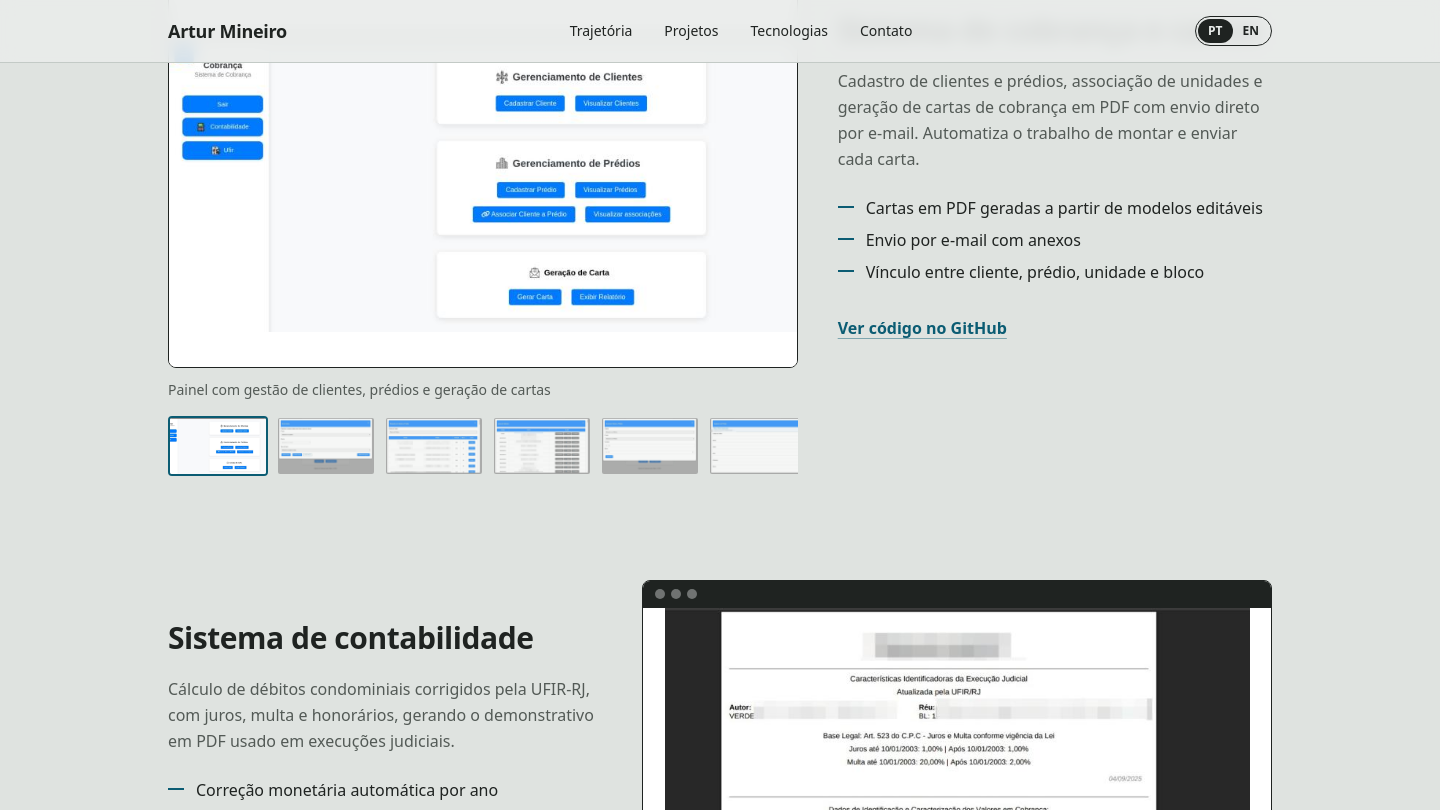
Test: Portfólio › miniatura troca a imagem principal
(page scrolled)
Click the button named "Mostrar imagem 3".
click(434, 446)  # box x1=384 y1=416 x2=484 y2=476
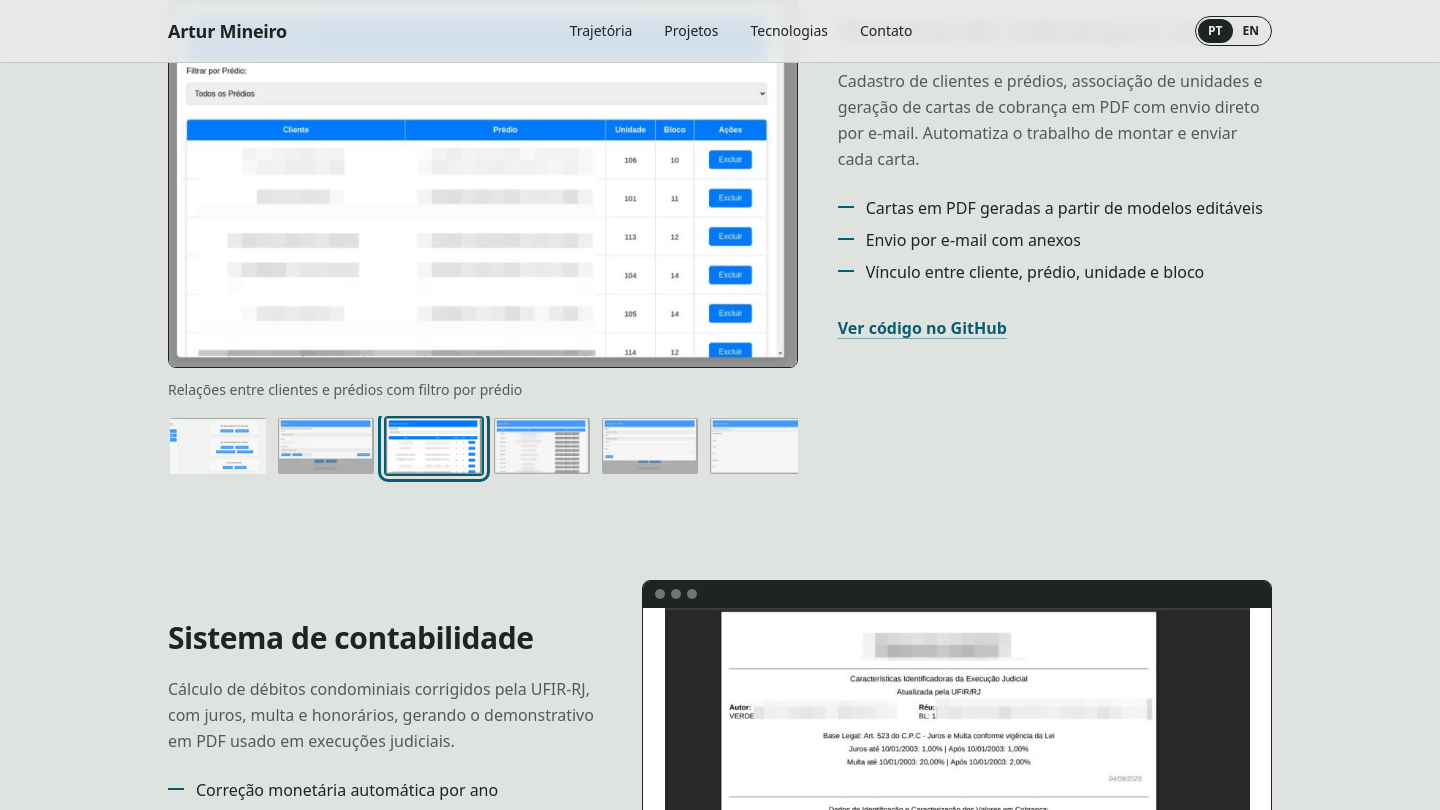
Now the button named "Ampliar imagem 3 de" is shown, box x1=169 y1=0 x2=797 y2=367
